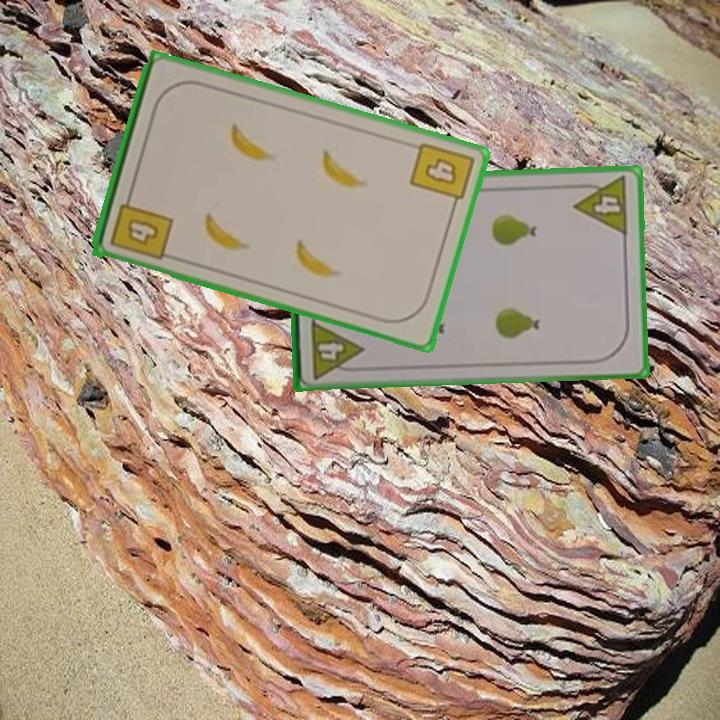4b: (406, 138, 477, 213), (107, 188, 176, 263)
4p: (570, 173, 631, 238), (307, 316, 366, 381)
